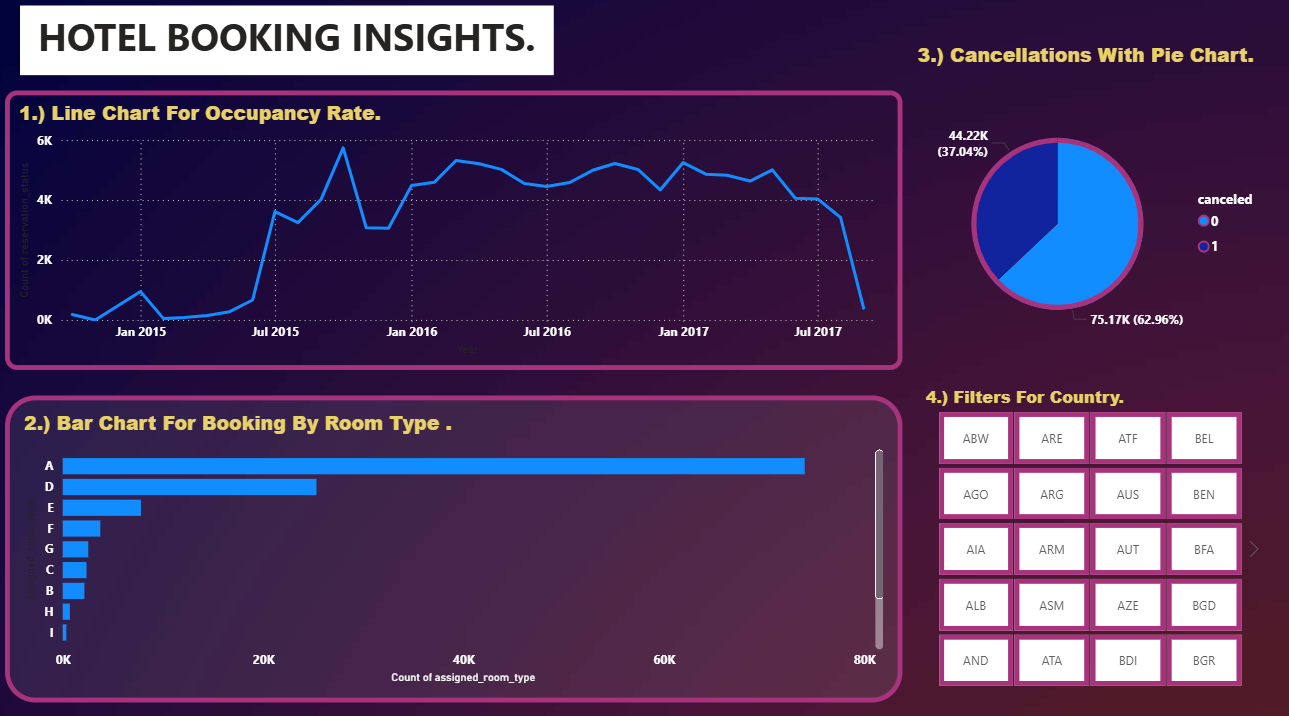

What the dashboard file says about the page in this screenshot:
{"tool":"powerbi","page":{"name":"Page 1","canvas":[1280,720],"ordinal":0},"visuals":[{"type":"textbox","box":[24.7,12.3,526.9,68.6],"z":0},{"type":"lineChart","title":"1.) Line Chart For Occupancy Rate.","fields":{"Y":["CountNonNull(hotel_bookings.reservation_status)"],"Category":["hotel_bookings.reservation_status_date.Variation.Date Hierarchy.Year","hotel_bookings.reservation_status_date.Variation.Date Hierarchy.Month"]},"box":[9.6,96.1,886.5,275.8],"z":1000},{"type":"clusteredBarChart","title":"2.) Bar Chart For Booking By Room Type .","fields":{"Category":["hotel_bookings.assigned_room_type"],"Y":["CountNonNull(hotel_bookings.assigned_room_type)"]},"box":[9.6,397.9,886.5,303.3],"z":2000},{"type":"pieChart","title":"3.) Cancellations With Pie Chart.","fields":{"Category":["hotel_bookings.is_canceled"],"Y":["CountNonNull(hotel_bookings.is_canceled)"]},"box":[905.7,46.7,363.6,336.2],"z":3000},{"type":"slicer","fields":{"Values":["hotel_bookings.country"]},"box":[905.7,382.8,348.5,308.7],"z":4000}]}

Visuals, with their boxes in screenshot pixels (x1, y1, x2, y2), scaled from the page's 1280x720 canvas onto the 1289x716 screenshot:
textbox: box=[25, 12, 555, 80]
"1.) Line Chart For Occupancy Rate." lineChart: box=[10, 96, 902, 370]
"2.) Bar Chart For Booking By Room Type ." clusteredBarChart: box=[10, 396, 902, 697]
"3.) Cancellations With Pie Chart." pieChart: box=[912, 46, 1278, 381]
slicer - hotel_bookings.country: box=[912, 381, 1263, 688]
